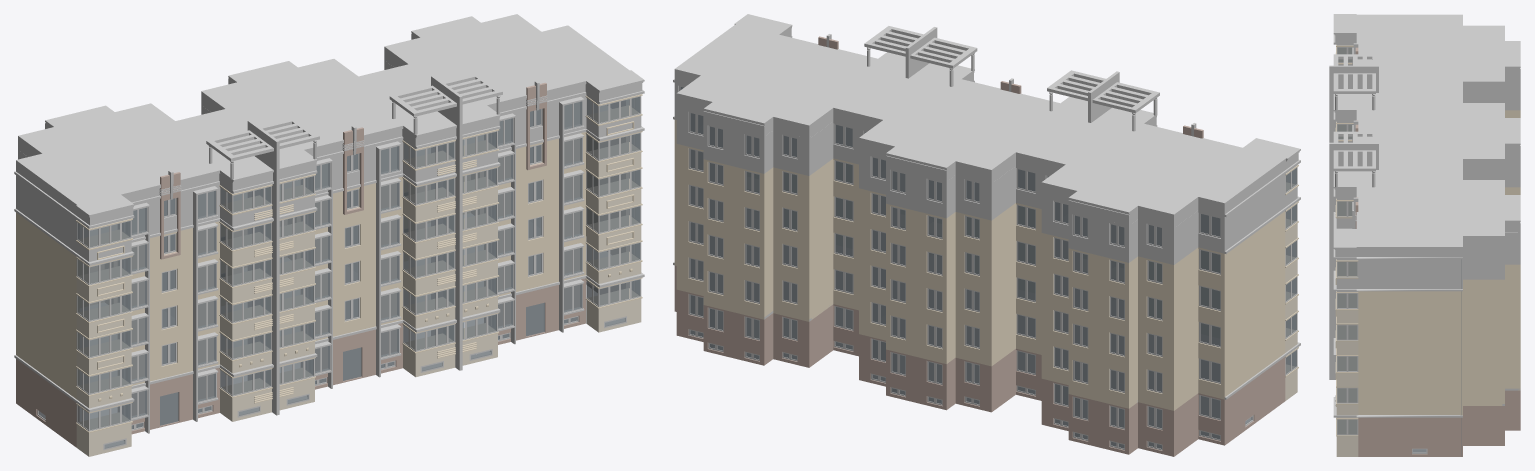
The picture shows the model from 3 angles, left to right: view 1: azimuth 30°, elevation 25°; view 2: azimuth 150°, elevation 25°; view 3: azimuth 270°, elevation 25°; orthographic projection. The views are drawn at different scales.
Visible parts, largest first — view 1: 住宅楼40; view 2: 住宅楼40; view 3: 住宅楼40.
Part boxes in pixels (x1,y1,x2,y2): 住宅楼40: (14,14,644,456); 住宅楼40: (673,14,1300,456); 住宅楼40: (1329,14,1520,456).
Bounding box in the file's own units: 46.08 × 21.7 × 15.96.
